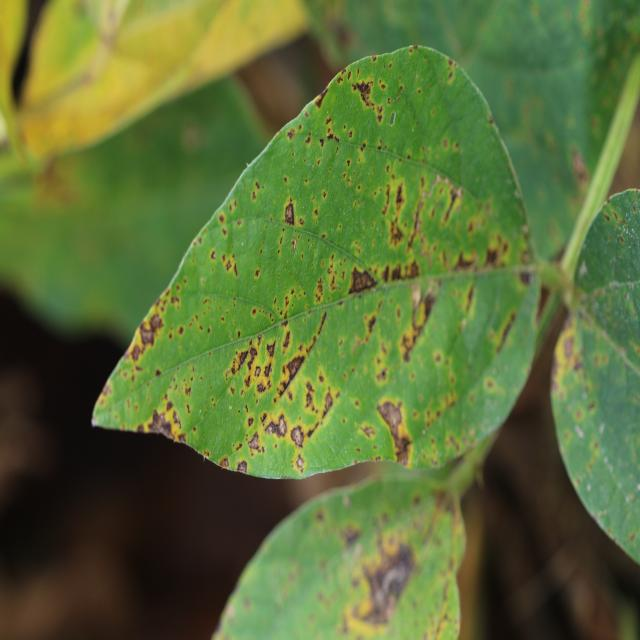Bacterial_Blight: (378, 392, 429, 457), (231, 331, 279, 400), (399, 288, 438, 363), (276, 196, 310, 280), (299, 375, 337, 437), (351, 294, 386, 355), (408, 187, 431, 249), (278, 353, 307, 393), (493, 309, 518, 355), (138, 312, 165, 351), (346, 265, 378, 295), (386, 258, 421, 284), (148, 409, 177, 440), (229, 344, 253, 377), (351, 78, 375, 110), (442, 187, 462, 225), (483, 244, 503, 268), (388, 219, 405, 247), (314, 84, 330, 109), (248, 430, 265, 453), (221, 251, 237, 275), (304, 381, 317, 410), (290, 425, 305, 448), (276, 414, 288, 437), (284, 202, 295, 226), (150, 313, 164, 331), (395, 183, 405, 208), (130, 343, 143, 362), (360, 425, 376, 439), (326, 130, 339, 144), (264, 421, 277, 435), (266, 340, 276, 358), (282, 329, 291, 349), (295, 454, 305, 472), (236, 460, 247, 474), (286, 128, 295, 141)
Soybean: (90, 45, 568, 485)
